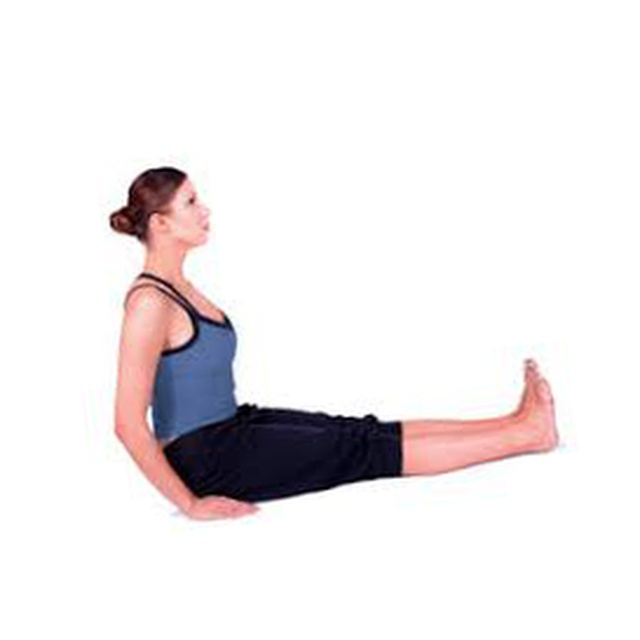Staff_Pose: (109, 166, 562, 523)
